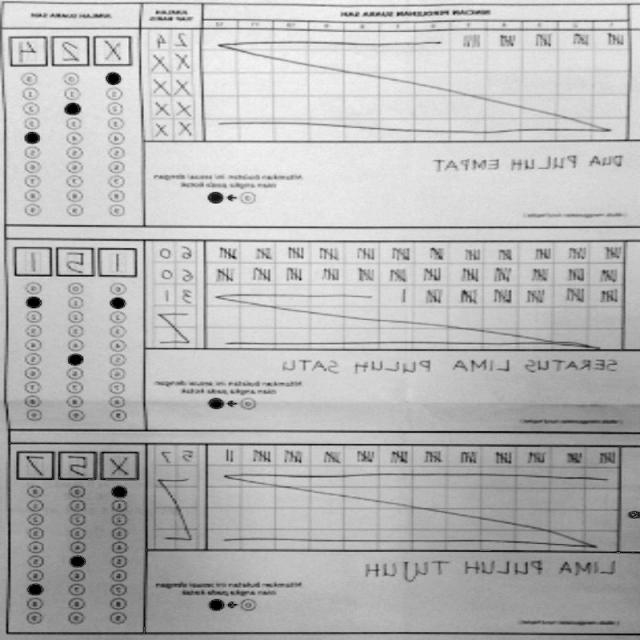Suara: (8, 29, 138, 66), (15, 446, 146, 482), (12, 243, 142, 279)
